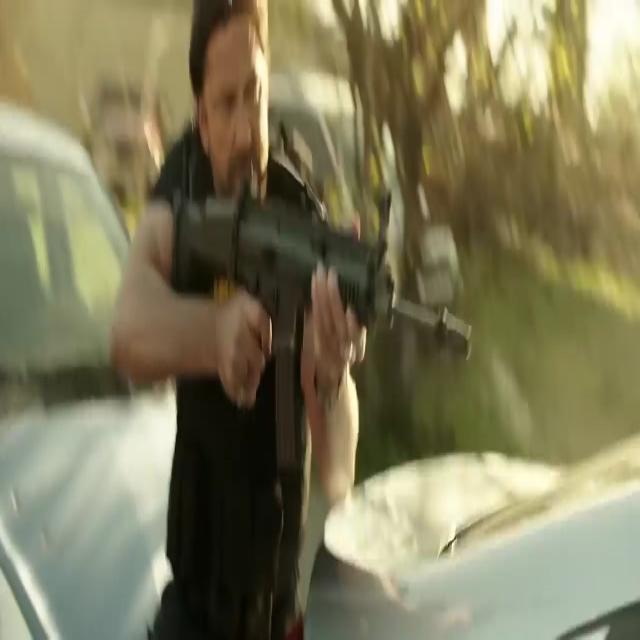Weapon: (172, 178, 458, 472)
